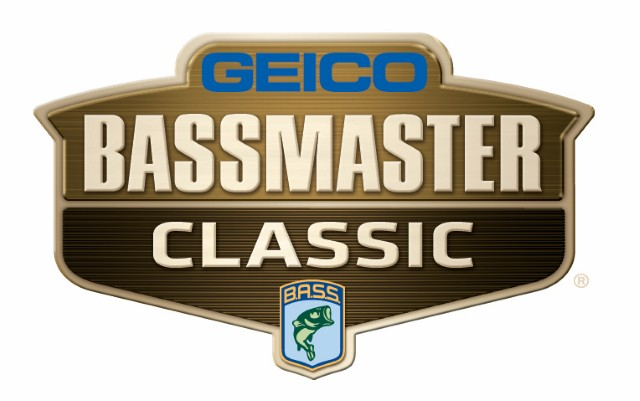Geico: (202, 48, 430, 93)
